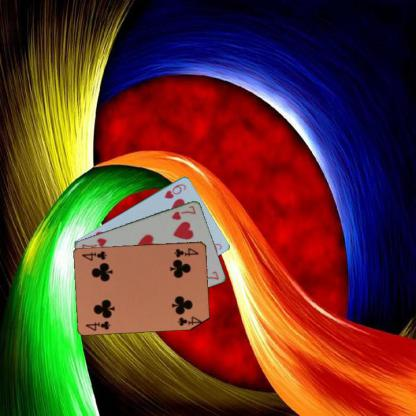4c: (83, 318, 112, 332), (172, 245, 200, 259)
6h: (162, 181, 187, 200)
7h: (169, 203, 197, 221)
